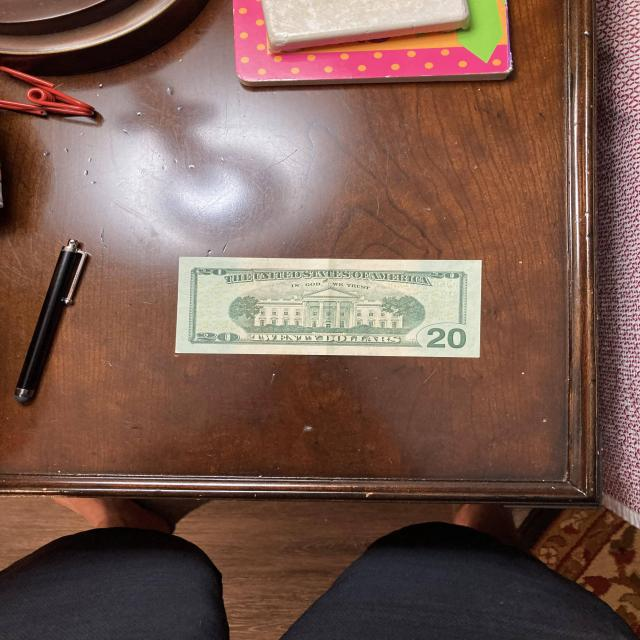twenty: (175, 256, 483, 358)
